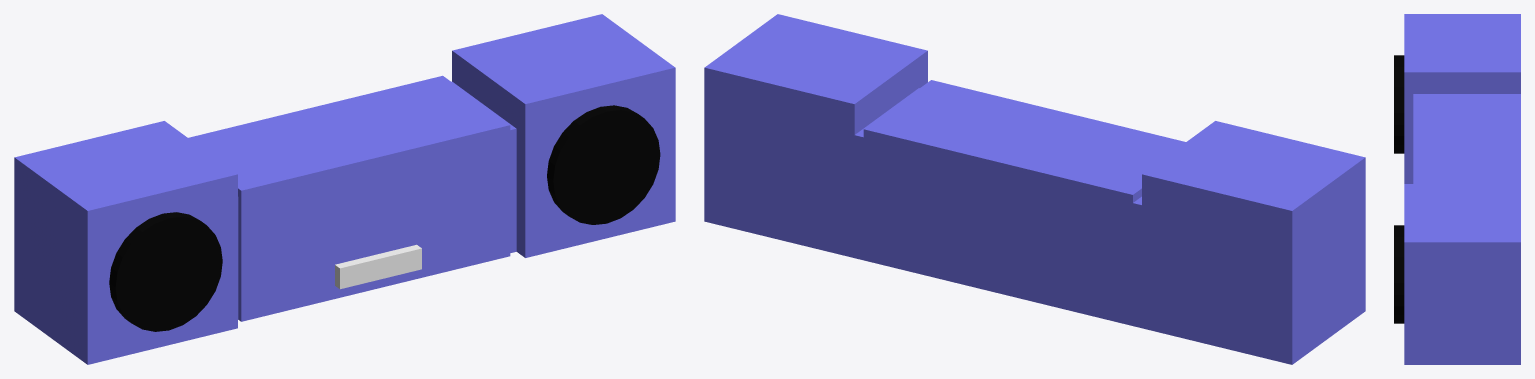
Rendered from radio.glb.
3 views of the same model, side by side, from view 1: azimuth 30°, elevation 25°; view 2: azimuth 150°, elevation 25°; view 3: azimuth 270°, elevation 25° (orthographic). The views are drawn at different scales.
Visible parts, largest first — view 1: imagetostl_mesh42, imagetostl_mesh81, imagetostl_mesh65, imagetostl_mesh10, imagetostl_mesh70, imagetostl_mesh2, imagetostl_mesh58, imagetostl_mesh12, imagetostl_mesh45, imagetostl_mesh8, imagetostl_mesh41, imagetostl_mesh7 (+1 smaller); view 2: imagetostl_mesh5, imagetostl_mesh78, imagetostl_mesh0, imagetostl_mesh69, imagetostl_mesh81, imagetostl_mesh70, imagetostl_mesh2, imagetostl_mesh58, imagetostl_mesh8, imagetostl_mesh11, imagetostl_mesh73; view 3: imagetostl_mesh4, imagetostl_mesh81, imagetostl_mesh2, imagetostl_mesh58, imagetostl_mesh64, imagetostl_mesh22, imagetostl_mesh21, imagetostl_mesh47, imagetostl_mesh20, imagetostl_mesh48, imagetostl_mesh57, imagetostl_mesh23 (+5 smaller).
Boxes of the visible parts, x1=… form: imagetostl_mesh42: x1=241, y1=125, x2=510, y2=321; imagetostl_mesh81: x1=188, y1=75, x2=509, y2=190; imagetostl_mesh65: x1=87, y1=174, x2=237, y2=364; imagetostl_mesh10: x1=525, y1=67, x2=675, y2=257; imagetostl_mesh70: x1=14, y1=157, x2=87, y2=364; imagetostl_mesh2: x1=452, y1=14, x2=674, y2=103; imagetostl_mesh58: x1=15, y1=121, x2=237, y2=210; imagetostl_mesh12: x1=553, y1=110, x2=660, y2=224; imagetostl_mesh45: x1=115, y1=217, x2=222, y2=331; imagetostl_mesh8: x1=452, y1=51, x2=525, y2=257; imagetostl_mesh41: x1=340, y1=248, x2=421, y2=289; imagetostl_mesh7: x1=510, y1=128, x2=516, y2=252; imagetostl_mesh5: x1=704, y1=67, x2=854, y2=257; imagetostl_mesh78: x1=1142, y1=174, x2=1292, y2=364; imagetostl_mesh0: x1=863, y1=129, x2=998, y2=292; imagetostl_mesh69: x1=998, y1=162, x2=1132, y2=325; imagetostl_mesh81: x1=864, y1=80, x2=1185, y2=194; imagetostl_mesh70: x1=1292, y1=157, x2=1365, y2=364; imagetostl_mesh2: x1=705, y1=14, x2=927, y2=103; imagetostl_mesh58: x1=1142, y1=121, x2=1364, y2=210; imagetostl_mesh8: x1=854, y1=51, x2=927, y2=134; imagetostl_mesh11: x1=854, y1=135, x2=863, y2=260; imagetostl_mesh73: x1=1133, y1=203, x2=1141, y2=328; imagetostl_mesh4: x1=1404, y1=242, x2=1520, y2=364; imagetostl_mesh81: x1=1413, y1=94, x2=1520, y2=183; imagetostl_mesh2: x1=1404, y1=184, x2=1520, y2=242; imagetostl_mesh58: x1=1404, y1=14, x2=1520, y2=72; imagetostl_mesh64: x1=1404, y1=72, x2=1520, y2=183; imagetostl_mesh22: x1=1394, y1=257, x2=1404, y2=270; imagetostl_mesh21: x1=1394, y1=270, x2=1404, y2=282; imagetostl_mesh47: x1=1394, y1=100, x2=1404, y2=112; imagetostl_mesh20: x1=1394, y1=283, x2=1404, y2=295; imagetostl_mesh48: x1=1394, y1=113, x2=1404, y2=125; imagetostl_mesh57: x1=1394, y1=87, x2=1404, y2=99; imagetostl_mesh23: x1=1394, y1=246, x2=1404, y2=257.
Bounding box in the file's own units: 62.6 × 15.67 × 14.7.
